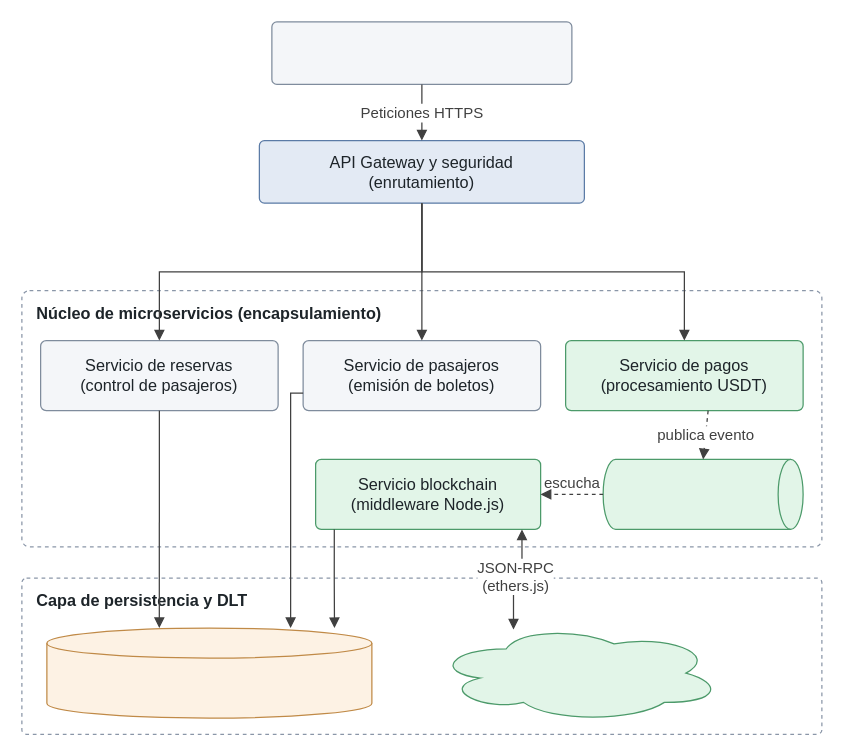
Some shapes in this 844 by 756 pixel diagram are drawn without their labels. The shapes that lost their labels are listed below. From the top down, each one's centre as x and y in pixels, then its label:
the point at 421,52: Interfaces de usuario (web y móvil)
the point at 702,493: Canal asíncrono (eventos / webhooks)
the point at 209,672: Base de datos relacional (PostgreSQL / Docker)
the point at 577,672: Red blockchain DLT (Polygon Amoy)
